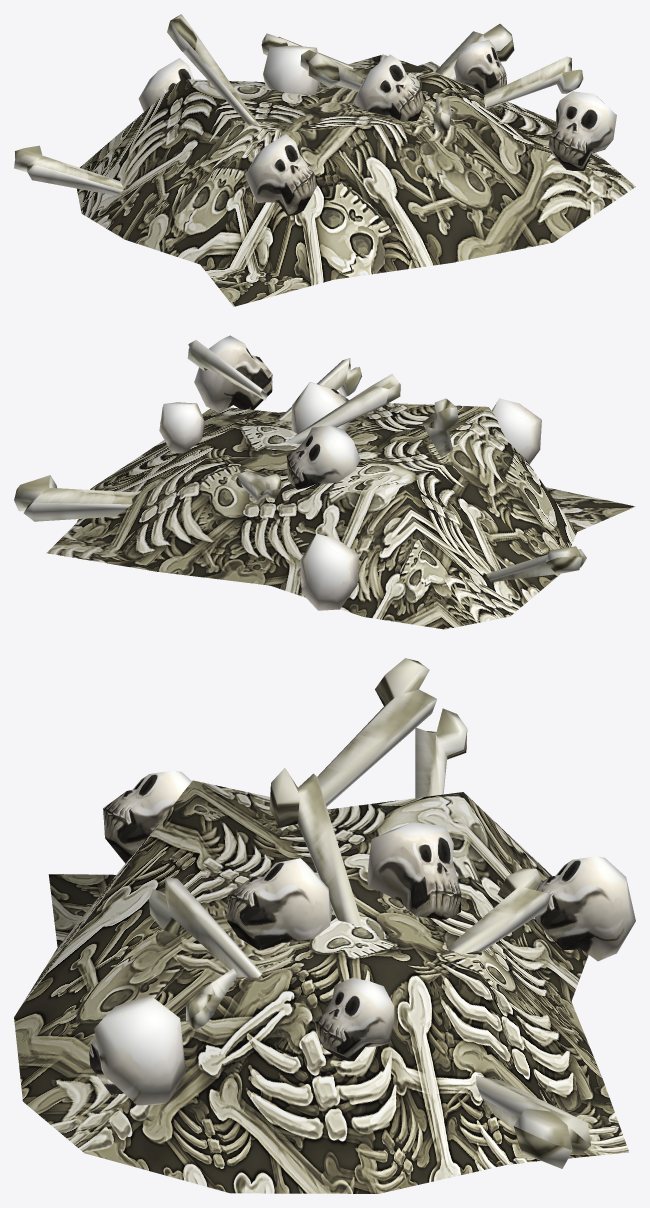
File: Orc_pile_of_Bones.FBX
3 renders of one model, top to bottom at view 1: azimuth 30°, elevation 25°; view 2: azimuth 150°, elevation 25°; view 3: azimuth 270°, elevation 25°, orthographic. The views are drawn at different scales.
Parts seen in each view (by area): view 1: pile_of_bones001, skulls001, femurs001; view 2: pile_of_bones001, skulls001, femurs001; view 3: pile_of_bones001, skulls001, femurs001.
Part boxes in pixels (bbox=[...]): pile_of_bones001: bbox=[77, 54, 635, 306]; skulls001: bbox=[138, 40, 616, 215]; femurs001: bbox=[14, 14, 583, 195]; pile_of_bones001: bbox=[46, 403, 635, 629]; skulls001: bbox=[159, 335, 541, 610]; femurs001: bbox=[14, 340, 586, 582]; pile_of_bones001: bbox=[14, 780, 628, 1193]; skulls001: bbox=[89, 770, 635, 1105]; femurs001: bbox=[149, 658, 590, 1168].
Bounding box in the file's own units: 2371 × 804 × 1645.
